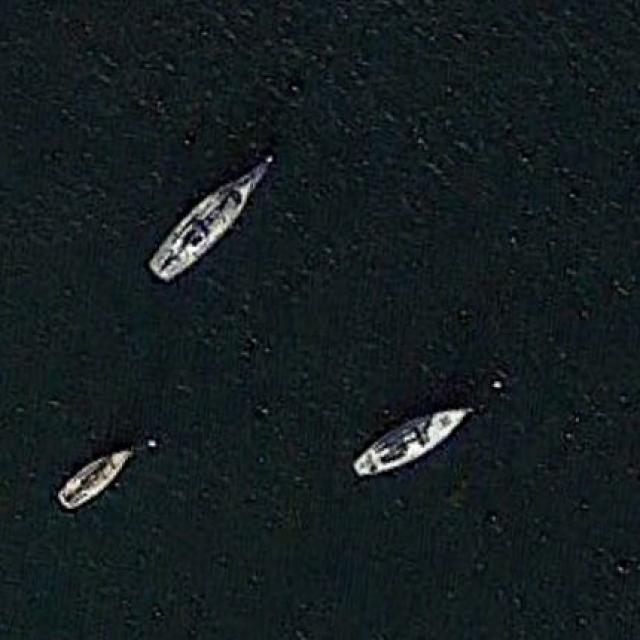ship: (147, 153, 276, 283), (350, 404, 476, 476), (54, 444, 138, 509)
